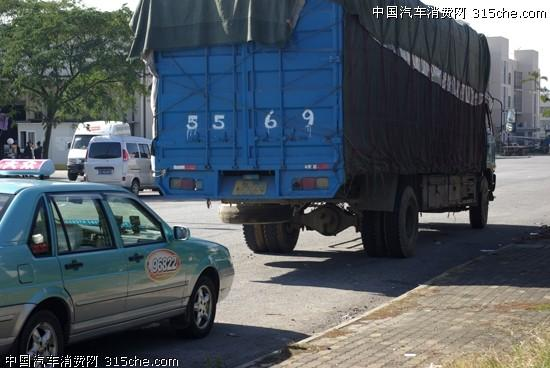truck: (127, 0, 518, 258)
